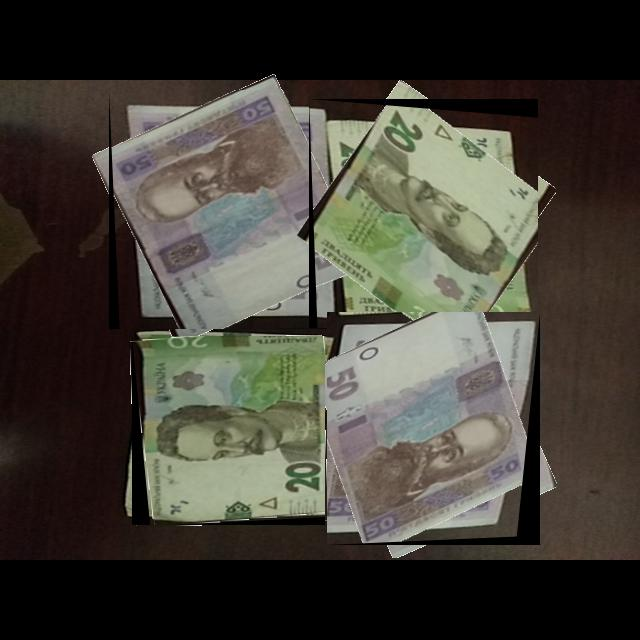20uah: (309, 99, 539, 329), (132, 336, 326, 526)
50uah: (109, 90, 343, 330), (327, 312, 541, 546)
